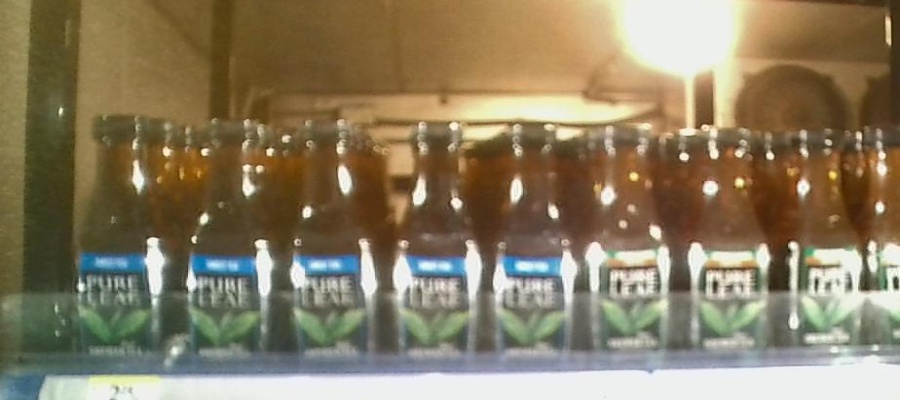bottle: (73, 105, 176, 365), (385, 118, 489, 368), (281, 113, 380, 367), (180, 110, 277, 368), (585, 116, 678, 373), (683, 121, 777, 370), (492, 116, 582, 369), (779, 125, 864, 362), (867, 123, 900, 363)
